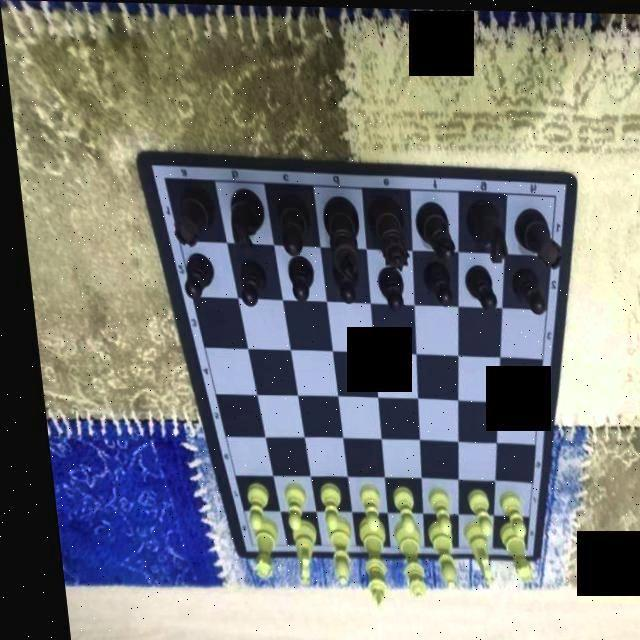chess-table-corners: (232, 536, 248, 552), (544, 189, 558, 201), (155, 171, 167, 184), (509, 542, 518, 552)
